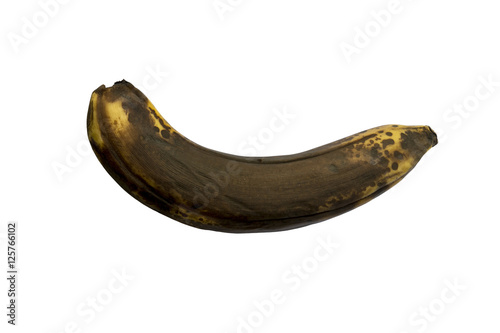looks_defective: (47, 33, 499, 311)
